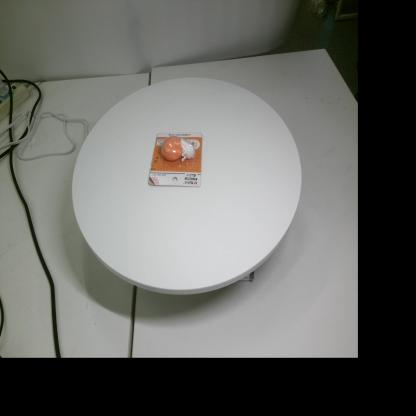Stationery: (148, 132, 202, 187)
